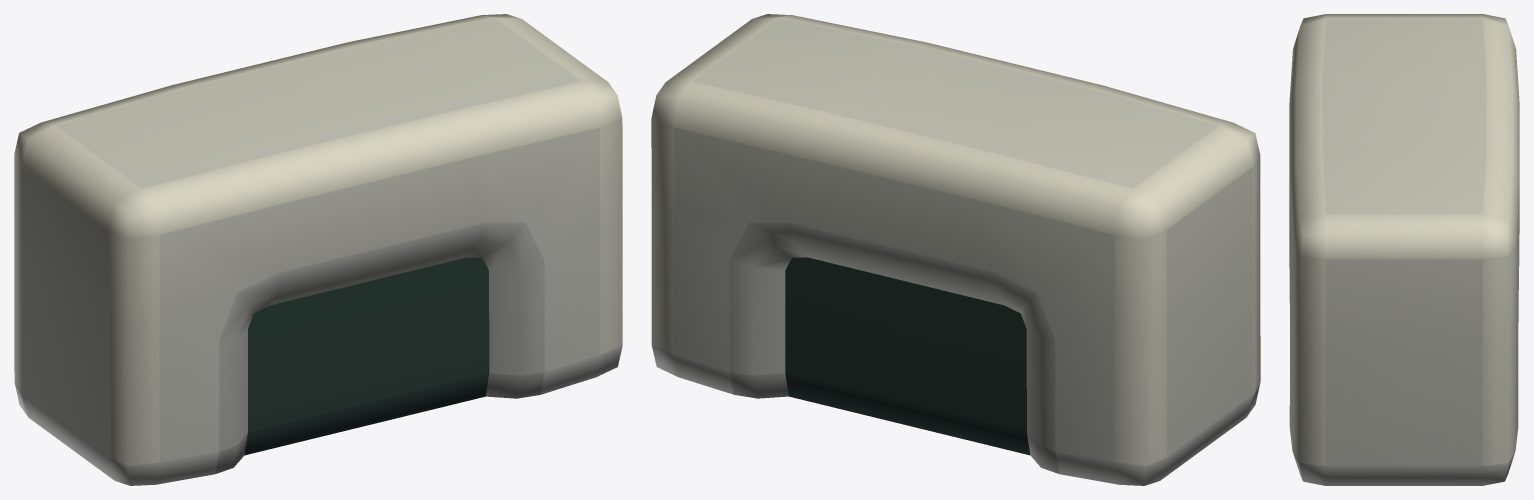
Rendered from curb_stone1_3_LOD_setup.fbx.
3 renders of one model, left to right at view 1: azimuth 30°, elevation 25°; view 2: azimuth 150°, elevation 25°; view 3: azimuth 270°, elevation 25°, orthographic. The views are drawn at different scales.
Parts seen in each view (by area): view 1: curb_stone1_3_LOD0; view 2: curb_stone1_3_LOD0; view 3: curb_stone1_3_LOD0.
Boxes of the visible parts, x1,y1,x2,y2 form: curb_stone1_3_LOD0: (14,14,622,485); curb_stone1_3_LOD0: (651,14,1260,485); curb_stone1_3_LOD0: (1289,14,1519,485).
Size of what is drawn, in the model's own units: 106 by 59.77 by 45.76.
